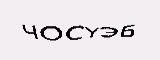Б: (118, 21, 136, 38)
О: (39, 22, 63, 43)
С: (64, 21, 85, 44)
Ч: (19, 22, 38, 39)
Э: (99, 21, 118, 40)
Ү: (84, 23, 100, 41)
